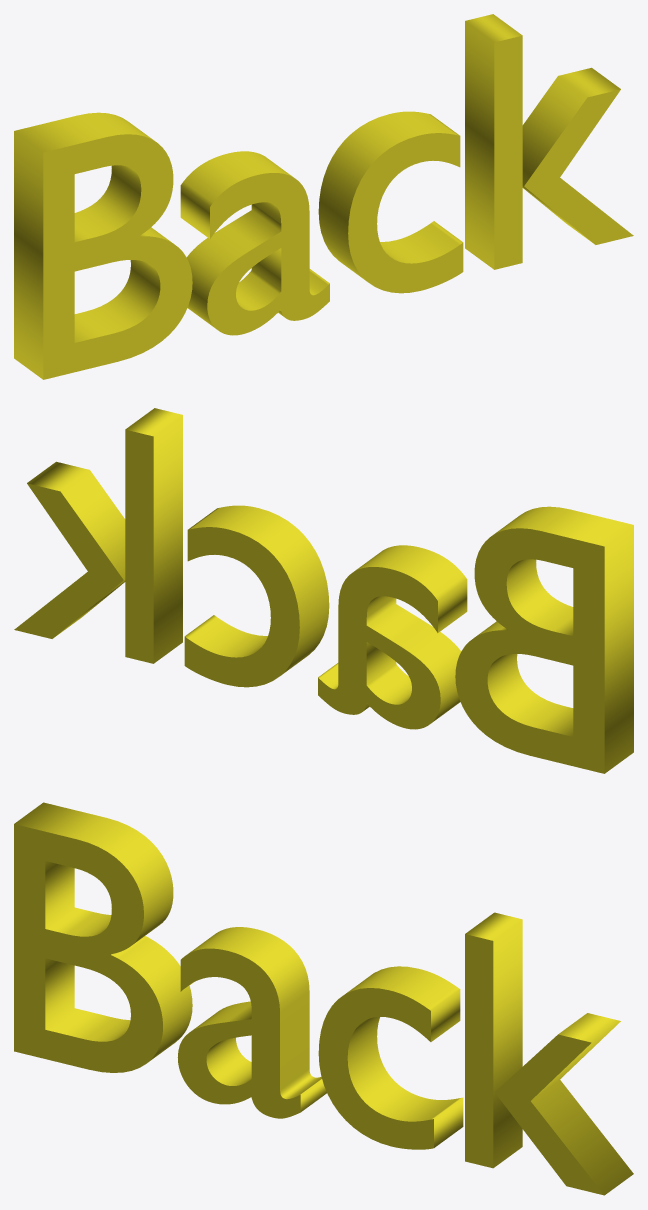
3 renders of one model, top to bottom at view 1: azimuth 30°, elevation 25°; view 2: azimuth 150°, elevation 25°; view 3: azimuth 330°, elevation 25°, orthographic.
Visible parts, largest first — view 1: text1; view 2: text1; view 3: text1.
Part boxes in pixels (x1,y1,x2,y2): text1: (14,14,633,379); text1: (14,408,633,773); text1: (14,802,633,1195).
Size of the model in its own units: 1.85 by 0.691 by 0.16.
